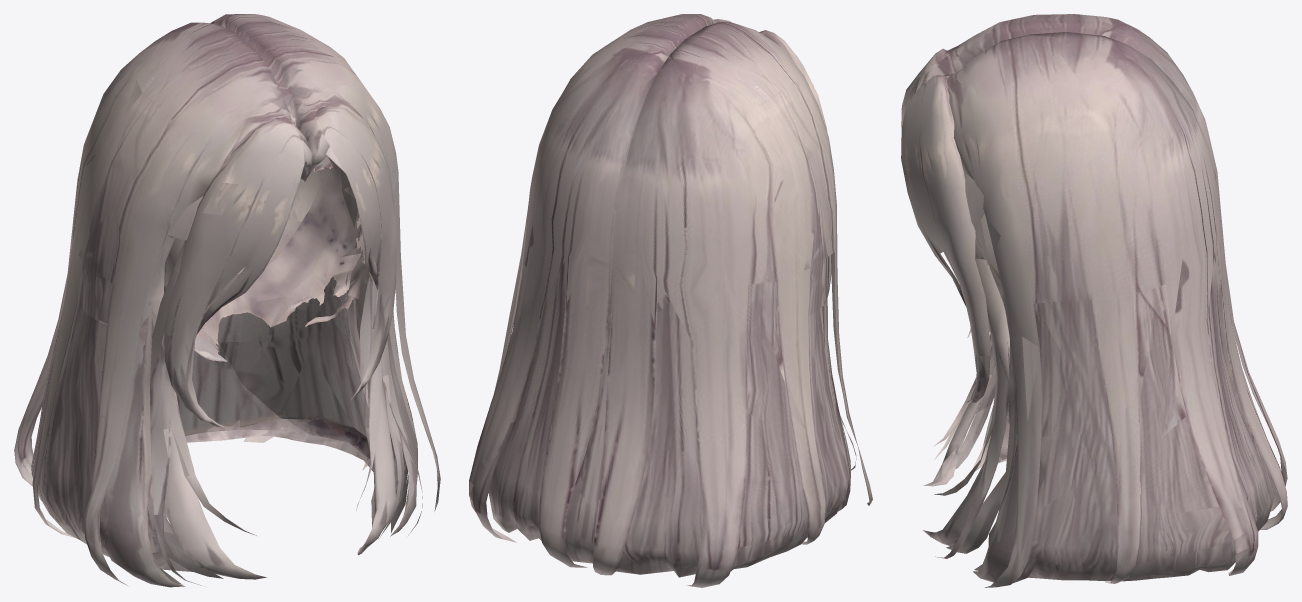
File: long.glb
3 views of the same model, side by side, from view 1: azimuth 30°, elevation 25°; view 2: azimuth 150°, elevation 25°; view 3: azimuth 270°, elevation 25° (orthographic). The views are drawn at different scales.
Visible parts, largest first — view 1: Mesh_0; view 2: Mesh_0; view 3: Mesh_0.
Boxes of the visible parts, x1,y1,x2,y2 form: Mesh_0: (14,14,440,587); Mesh_0: (469,14,872,587); Mesh_0: (901,14,1287,587).
Size of the model in its own units: 1.49 by 2 by 1.42.
1 material, 1 textured.
